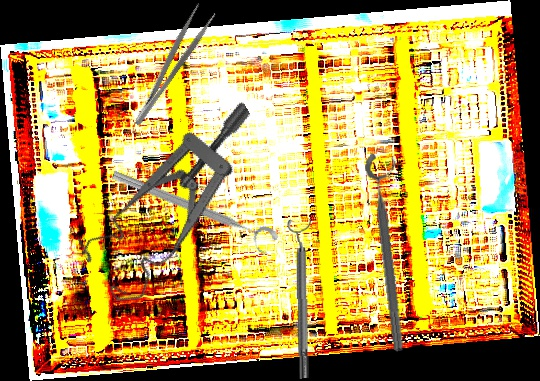Dressing Forceps: (122, 1, 218, 129)
Fixation Ring: (106, 166, 280, 258), (363, 150, 421, 353), (287, 219, 316, 379)
Speculum: (54, 99, 303, 314)
